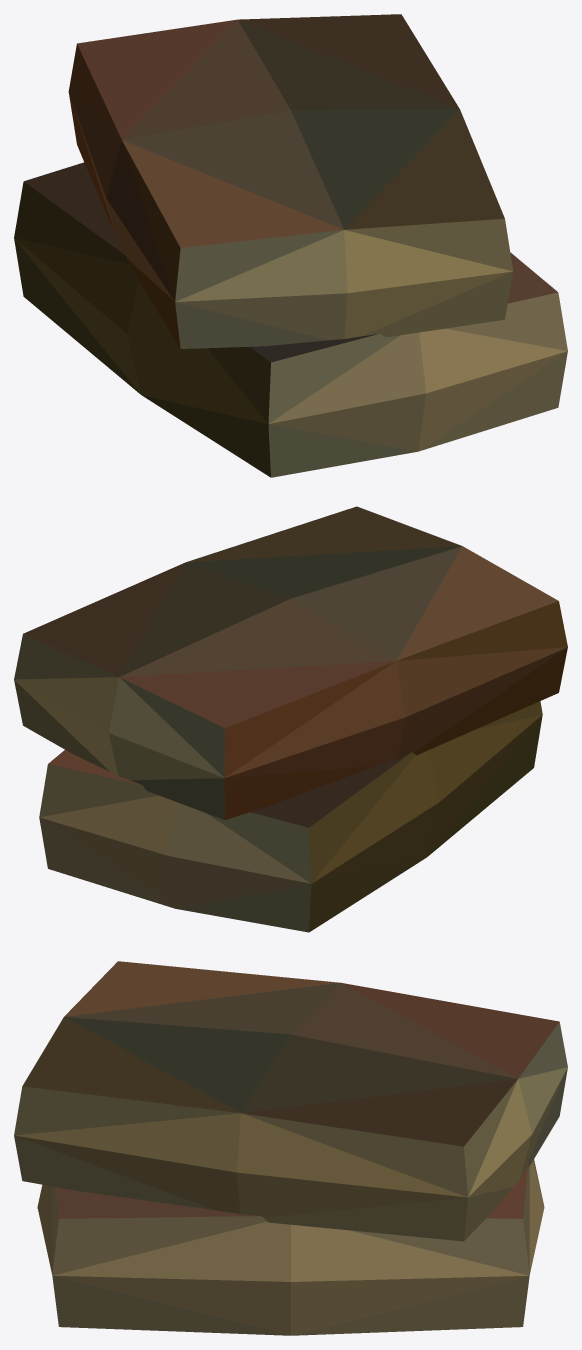
File: prop_literature_book_pile_3.fbx
The picture shows the model from 3 angles, top to bottom: view 1: azimuth 30°, elevation 25°; view 2: azimuth 150°, elevation 25°; view 3: azimuth 270°, elevation 25°; orthographic projection. The views are drawn at different scales.
Parts seen in each view (by area): view 1: prop_literature_book_pile_3; view 2: prop_literature_book_pile_3; view 3: prop_literature_book_pile_3.
Boxes of the visible parts, box(x1,y1,x2,y2) form: prop_literature_book_pile_3: box(14, 14, 567, 477); prop_literature_book_pile_3: box(14, 506, 567, 932); prop_literature_book_pile_3: box(14, 961, 567, 1335).
Bounding box in the file's own units: 0.693 × 0.4133 × 0.8429.
